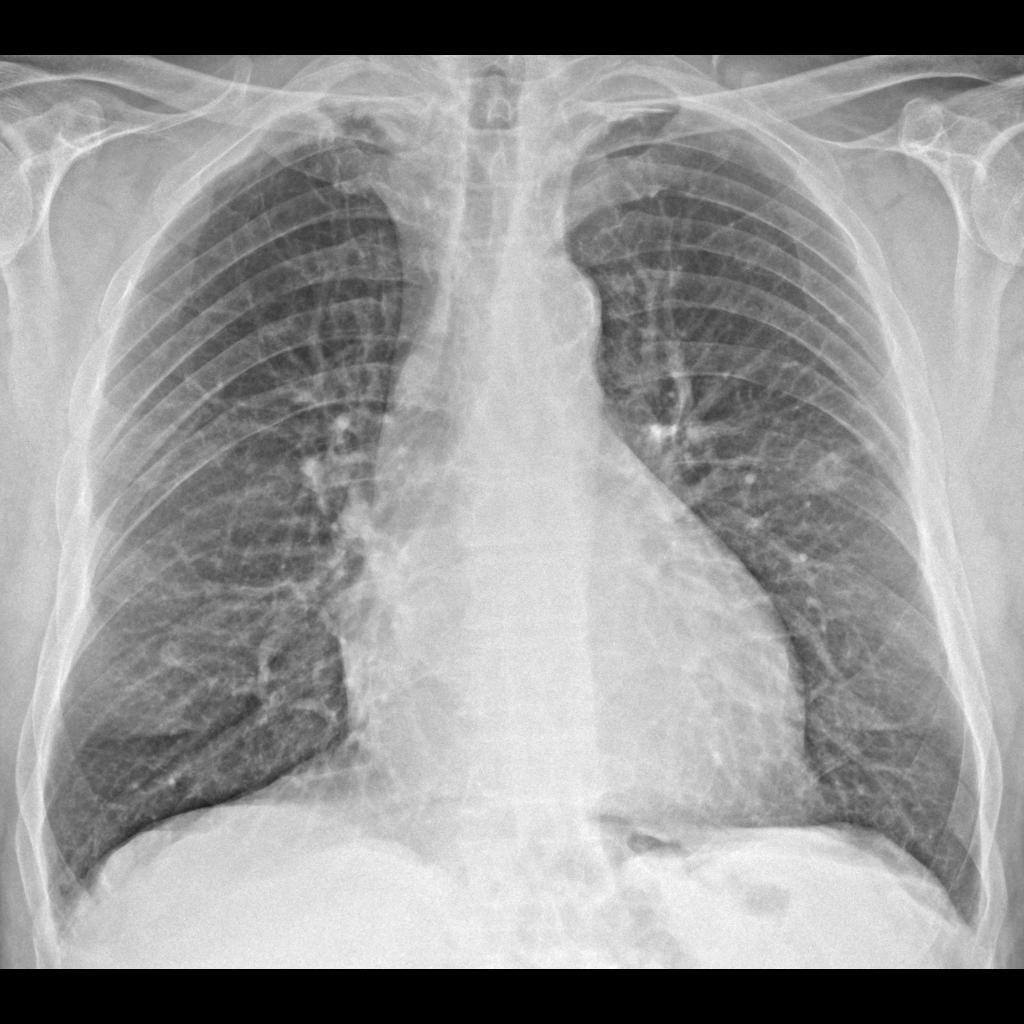Nodule: (811, 447, 859, 506), (157, 634, 188, 675)
